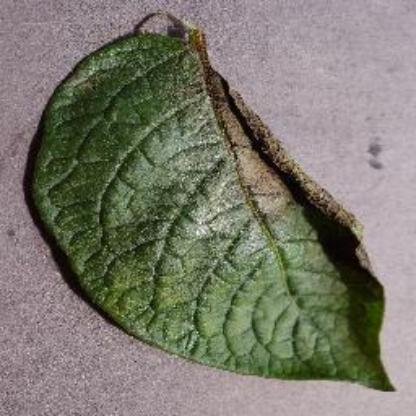Late-Blight: (26, 26, 402, 404)
